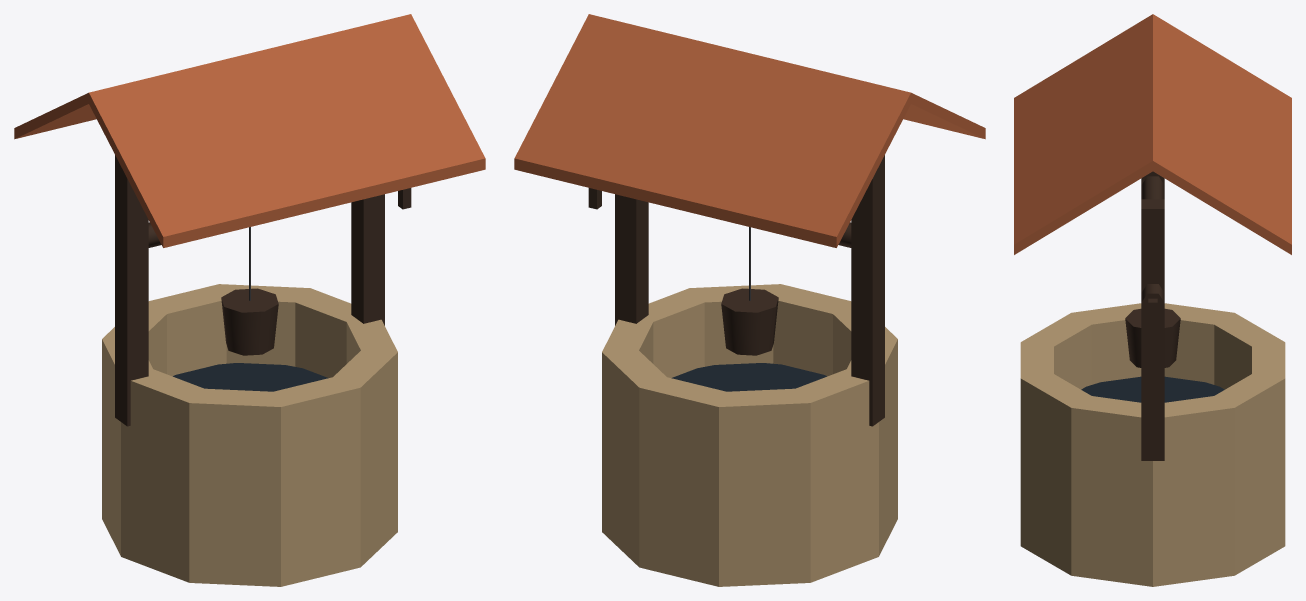
File: well.glb
3 renders of one model, left to right at view 1: azimuth 30°, elevation 25°; view 2: azimuth 150°, elevation 25°; view 3: azimuth 270°, elevation 25°, orthographic. The views are drawn at different scales.
Parts seen in each view (by area): view 1: well; view 2: well; view 3: well.
Part boxes in pixels (x1=…): well: x1=14, y1=14, x2=485, y2=586; well: x1=514, y1=14, x2=985, y2=586; well: x1=1014, y1=14, x2=1291, y2=586.
Bounding box in the file's own units: 1.5 × 2.1 × 1.2.
Materials: 1 (1 with a texture image).
